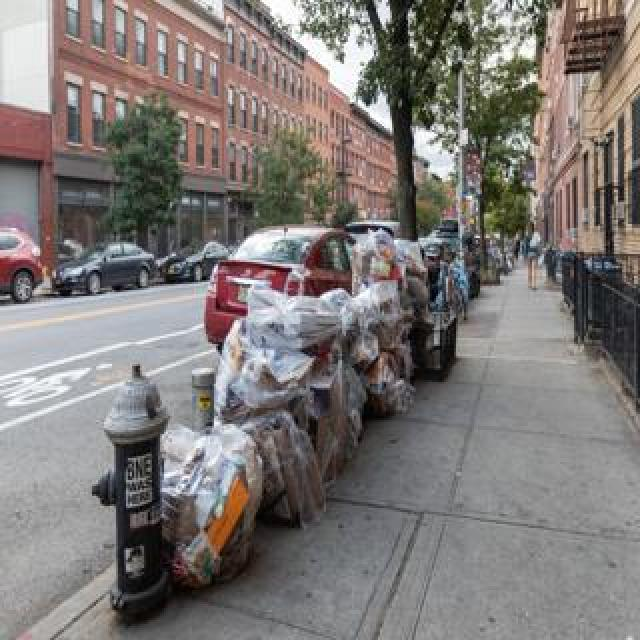high trash: (162, 235, 424, 587)
